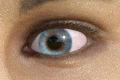eye: (40, 29, 70, 55)
